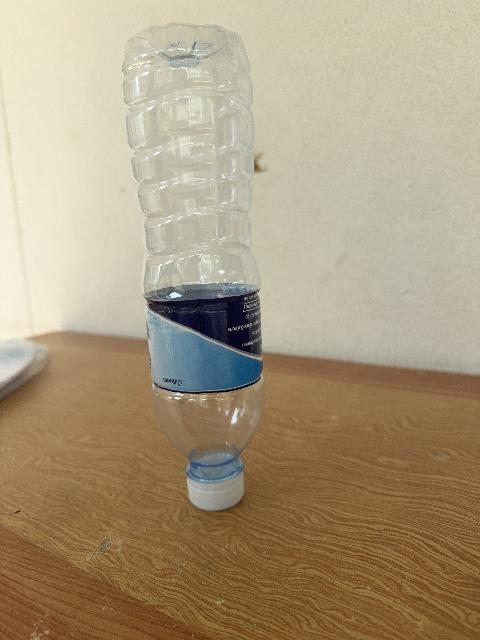bottle: (124, 24, 263, 510)
